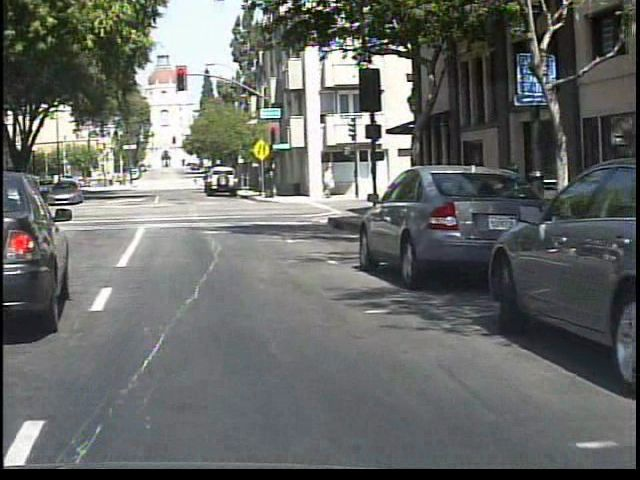person: (11, 172, 31, 212), (188, 174, 203, 191), (2, 175, 4, 212)
